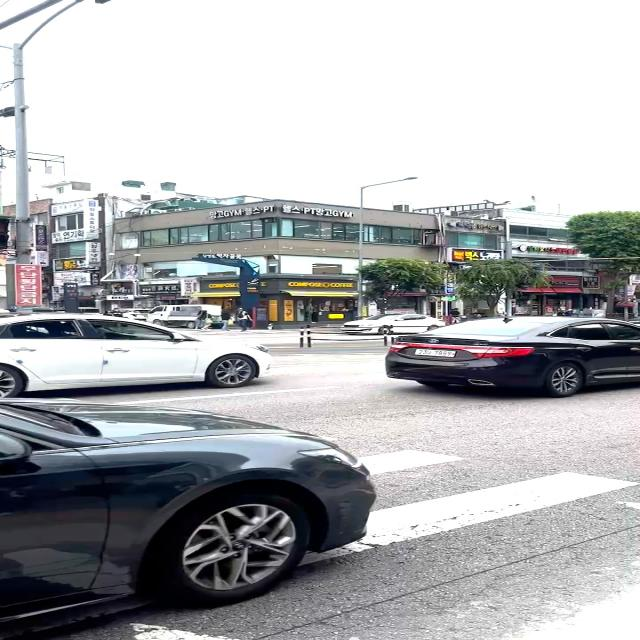building: (100, 195, 444, 330)
car: (0, 396, 376, 638), (0, 312, 273, 398), (384, 315, 639, 397), (339, 313, 445, 335)
